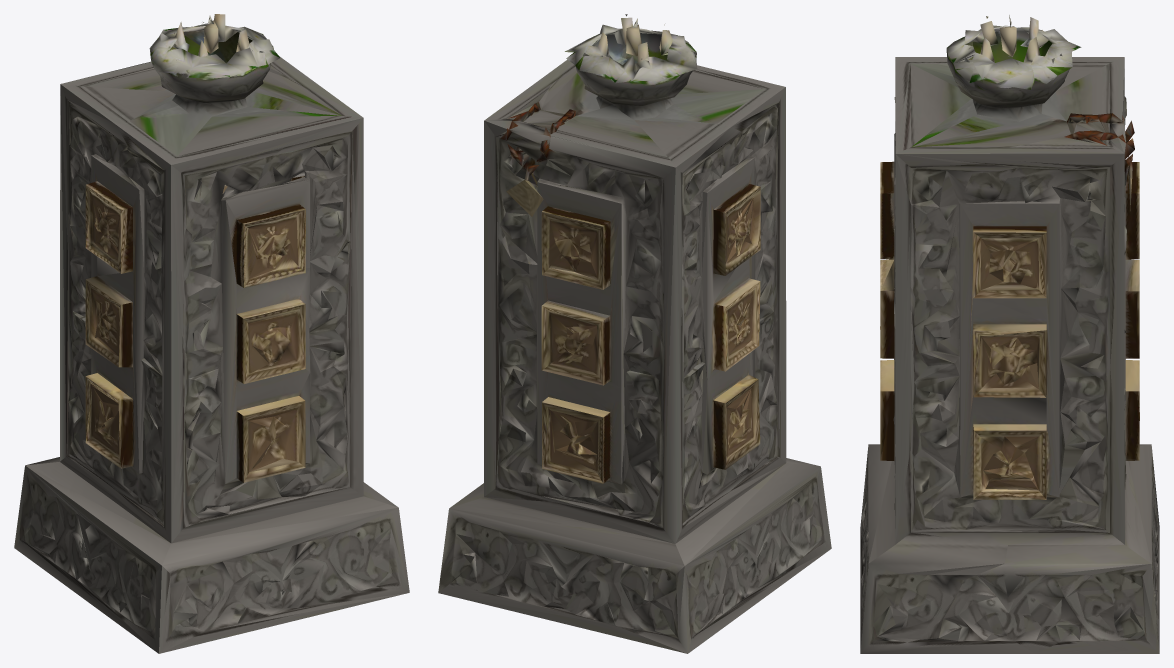
Rendered from altarlit 1.fbx.
3 renders of one model, left to right at view 1: azimuth 30°, elevation 25°; view 2: azimuth 150°, elevation 25°; view 3: azimuth 270°, elevation 25°, orthographic. The views are drawn at different scales.
Parts seen in each view (by area): view 1: tripo_node_4222a8e9; view 2: tripo_node_4222a8e9; view 3: tripo_node_4222a8e9.
Part boxes in pixels (box(x1,y1,x2,y2)): tripo_node_4222a8e9: box(14, 14, 409, 653); tripo_node_4222a8e9: box(438, 14, 831, 653); tripo_node_4222a8e9: box(860, 15, 1159, 653).
Bounding box in the file's own units: 47.13 × 99.9 × 47.11.
Materials: 1 (1 with a texture image).
